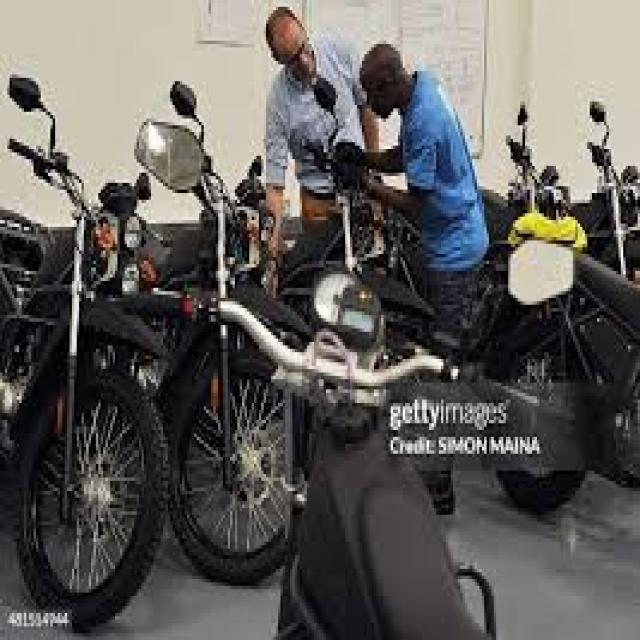bodaboda: (1, 39, 188, 640), (135, 69, 320, 612), (496, 64, 608, 524)
